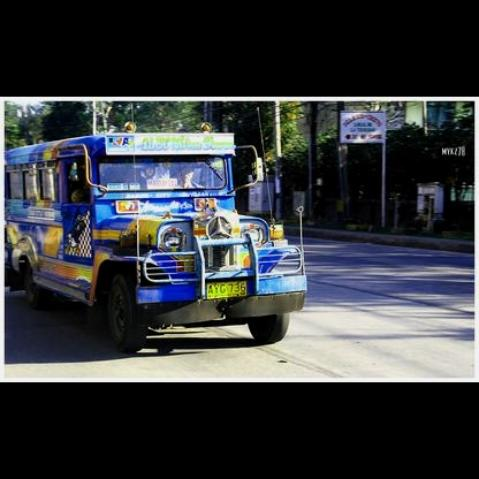jeepney: (7, 118, 319, 354)
